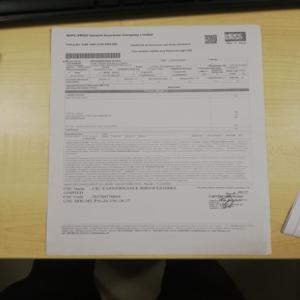image: (222, 30, 247, 43)
table: (65, 91, 252, 139), (65, 58, 250, 87)
text: (65, 140, 251, 182), (60, 182, 178, 204), (64, 30, 155, 38), (129, 39, 195, 49), (63, 39, 120, 49)
